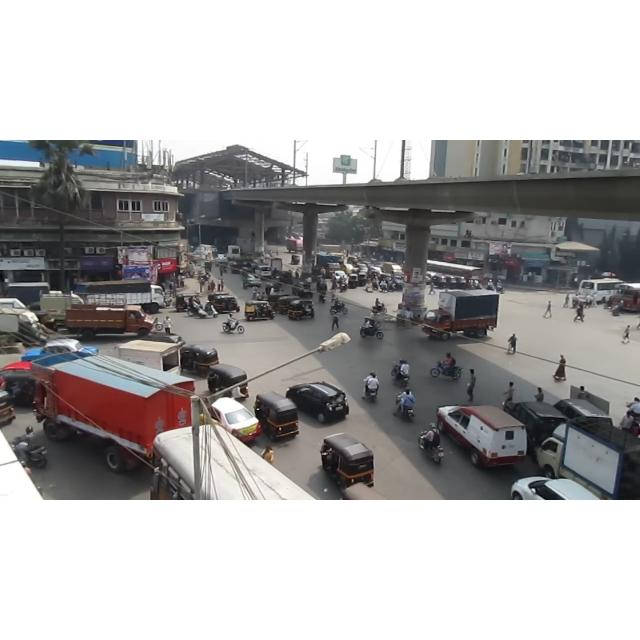auto: (318, 431, 378, 489), (256, 393, 301, 443), (209, 362, 251, 402), (182, 339, 220, 377), (290, 296, 318, 322), (215, 292, 243, 317), (246, 297, 276, 320), (174, 293, 202, 313)
car: (434, 398, 538, 474)
truck: (423, 287, 507, 340), (57, 299, 170, 337)
